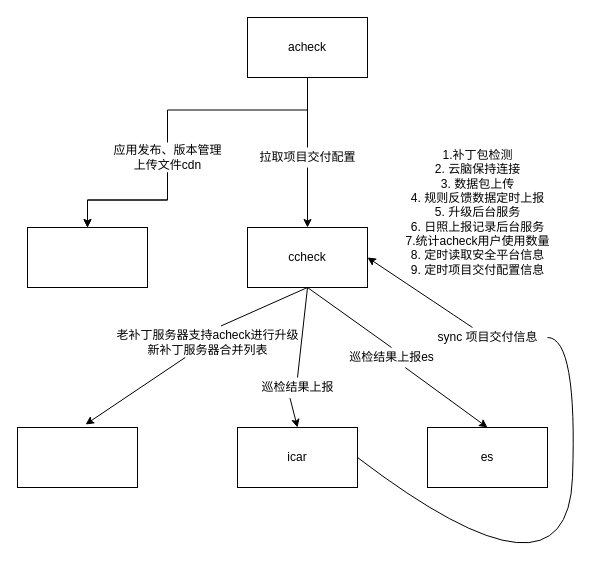
Image size: 591x561. Some labels were removed from this diagram. The box of each missing label's shape, as (x1, y1, x2, y2) in pixels:
upgrade-svc: (26, 226, 148, 288)
补丁: (16, 426, 138, 488)
